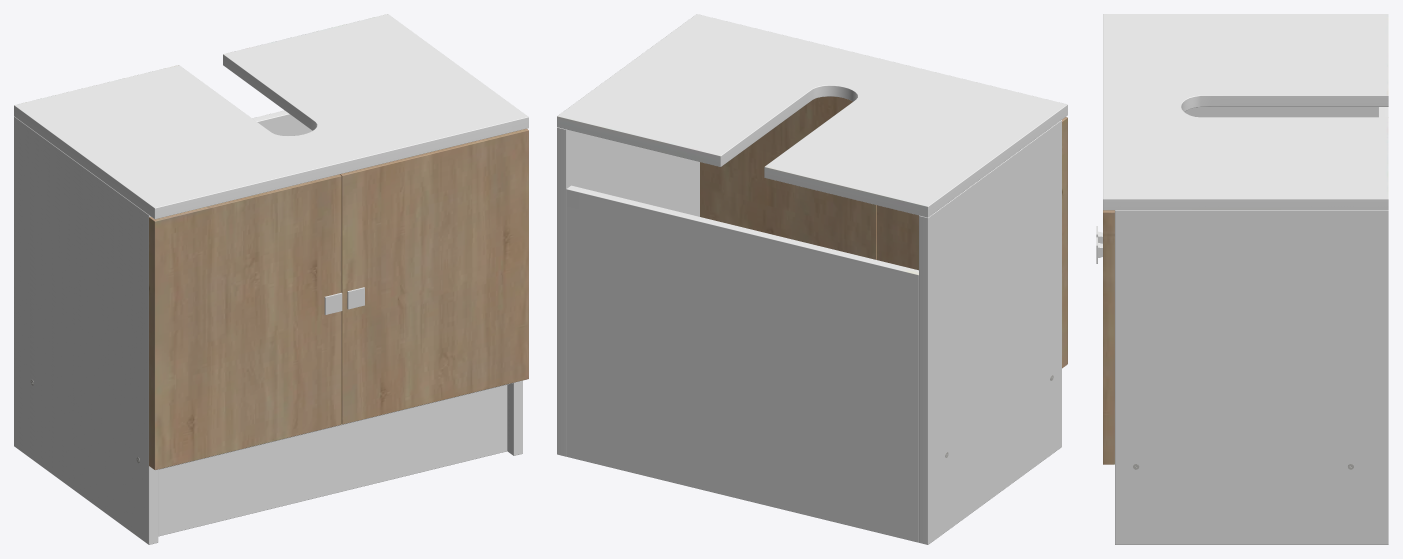
File: abo-B07S6XKT5X.glb
The picture shows the model from 3 angles, left to right: view 1: azimuth 30°, elevation 25°; view 2: azimuth 150°, elevation 25°; view 3: azimuth 270°, elevation 25°; orthographic projection. The views are drawn at different scales.
Bounding box in the file's own units: 0.6 × 0.522 × 0.4.
1 material, 1 textured.
